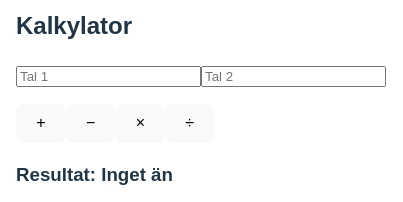
Test: Calculator-komponent › multiplicerar två tal korrekt
The width and height of the screenshot is (403, 202).
In the number field with placeholder "Tal 1": (108, 76) [16,66,201,86], type "3"
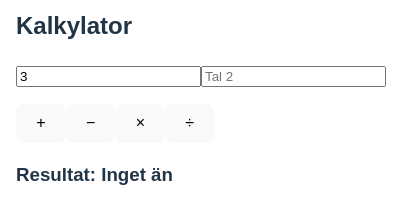
In the number field with placeholder "Tal 2": (294, 76) [201,66,386,86], type "7"
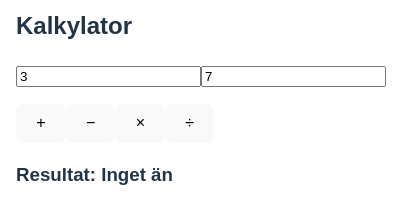
Click the button "×": (140, 123) [115,104,165,143]
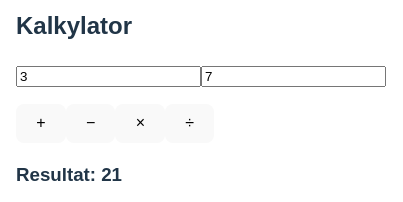
Expected: the heading "Resultat: 21" is shown, [16,164,122,186]
